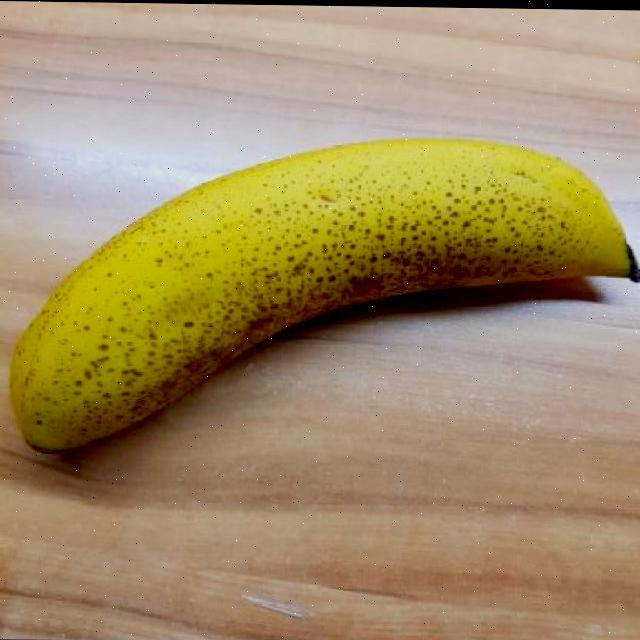banana: (15, 135, 640, 461)
